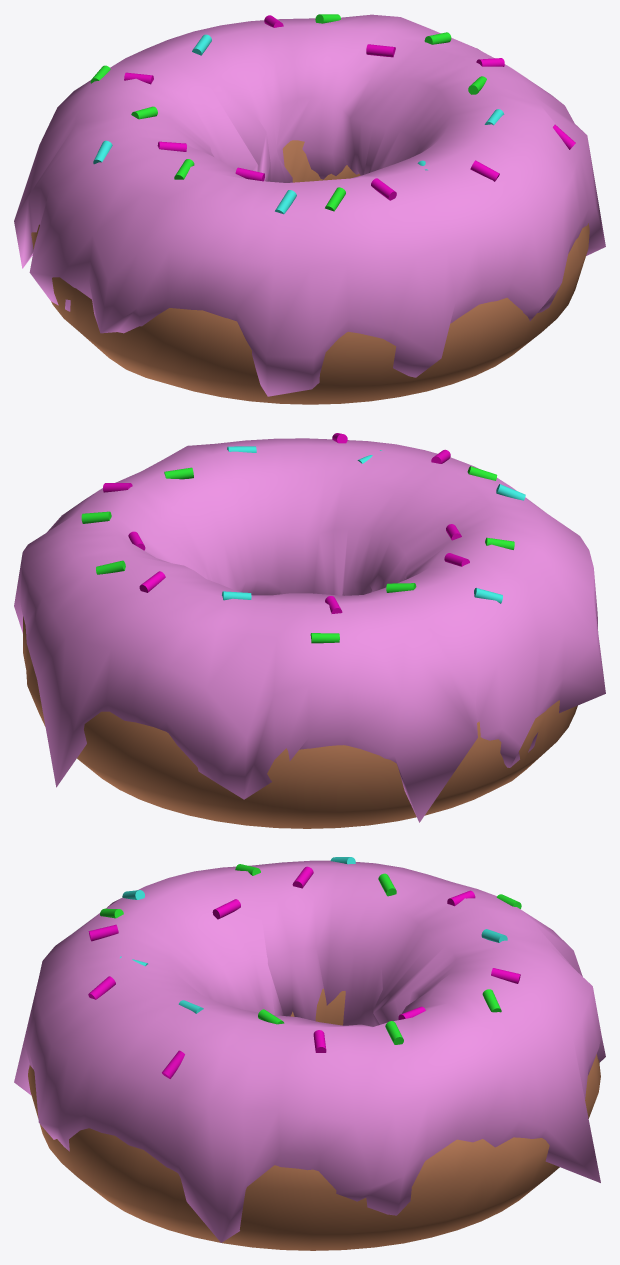
Rendered from donut.glb.
3 renders of one model, top to bottom at view 1: azimuth 30°, elevation 25°; view 2: azimuth 150°, elevation 25°; view 3: azimuth 270°, elevation 25°, orthographic.
Parts seen in each view (by area): view 1: Torus.001, Torus.008; view 2: Torus.001, Torus.008; view 3: Torus.001, Torus.008.
Boxes of the visible parts, box(x1,y1,x2,y2) form: Torus.001: box(14, 14, 605, 396); Torus.008: box(31, 140, 589, 404); Torus.001: box(14, 438, 605, 822); Torus.008: box(23, 616, 577, 828); Torus.001: box(14, 860, 605, 1242); Torus.008: box(28, 988, 600, 1250).
Size of the model in its own units: 2.49 by 1.04 by 2.49.
